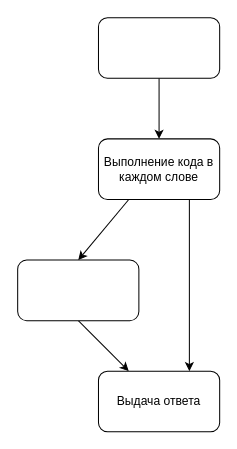
The diagram is 237 pixels wide and 449 high, and some of its shapes have lost their labels. Each missing label, with the box of its shape:
Разделение входной строки на слова: (97, 17, 220, 78)
Формирование новых слов: (17, 259, 139, 321)
